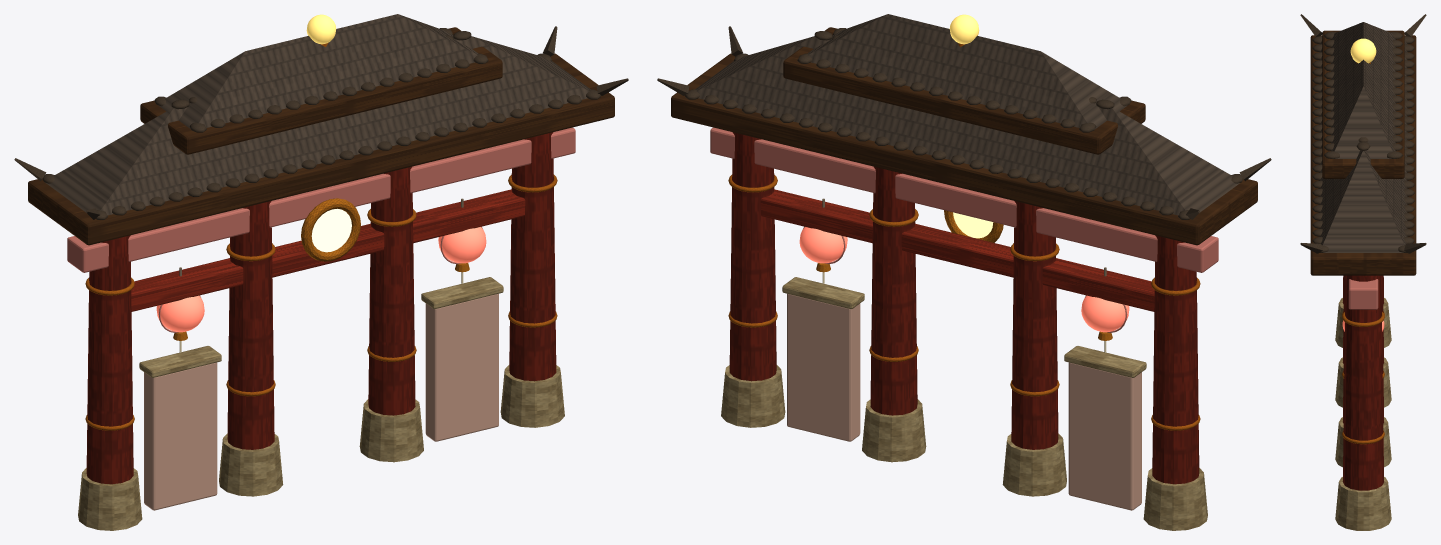
The model's file is gate.glb.
3 renders of one model, left to right at view 1: azimuth 30°, elevation 25°; view 2: azimuth 150°, elevation 25°; view 3: azimuth 270°, elevation 25°, orthographic. The views are drawn at different scales.
Visible parts, largest first — view 1: roof1, roof2, roof1_eave, beam1, column, side_wall, side_wall.001, column.001, column.003, column.002, beam2, roof2_eave (+11 smaller); view 2: roof1, roof2, roof1_eave, beam1, column, beam2, side_wall, side_wall.001, column.001, column.003, column.002, roof2_eave (+9 smaller); view 3: column.003, roof2, roof1, roof1_eave, roof2_eave, column_base.003, beam1, column_base.001, column_base.002, column_base, finial, column.002 (+3 smaller).
Boxes of the visible parts, x1,y1,x2,y2 form: roof1: (46,36,590,215); roof2: (158,14,478,128); roof1_eave: (28,53,614,245); beam1: (67,127,575,272); column: (86,235,133,484); side_wall: (144,362,217,510); side_wall.001: (425,293,498,441); column.001: (227,201,274,449); column.003: (509,132,556,381); column.002: (368,166,415,415); beam2: (131,189,525,311); roof2_eave: (140,27,502,154); roof1: (695,36,1239,215); roof2: (807,14,1127,128); roof1_eave: (671,53,1257,245); beam1: (710,127,1218,272); column: (1152,235,1199,484); beam2: (760,189,1154,311); side_wall: (1068,362,1141,510); side_wall.001: (787,293,860,441); column.001: (1011,201,1058,449); column.003: (729,132,776,381); column.002: (870,166,917,415); roof2_eave: (783,27,1145,154); column.003: (1342,275,1384,490); roof2: (1331,22,1395,158); roof1: (1319,40,1407,252); roof1_eave: (1310,35,1416,275); roof2_eave: (1322,30,1404,178); column_base.003: (1335,477,1391,530); beam1: (1348,279,1378,309); column_base.001: (1335,357,1391,407); column_base.002: (1335,417,1391,467); column_base: (1335,298,1391,347); finial: (1350,38,1376,63); column.002: (1343,275,1383,423).
Bounding box in the file's own units: 9.25 × 7.32 × 2.15.
Materials: 15 (8 with a texture image).
